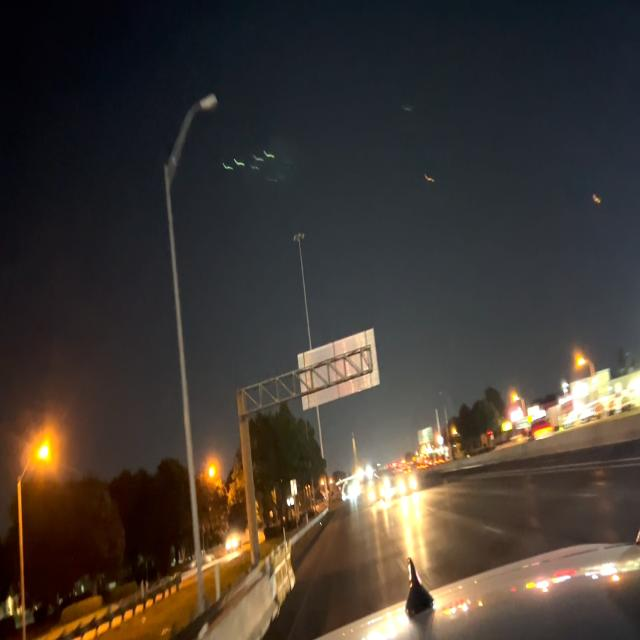back-of-sign: (298, 331, 380, 407)
